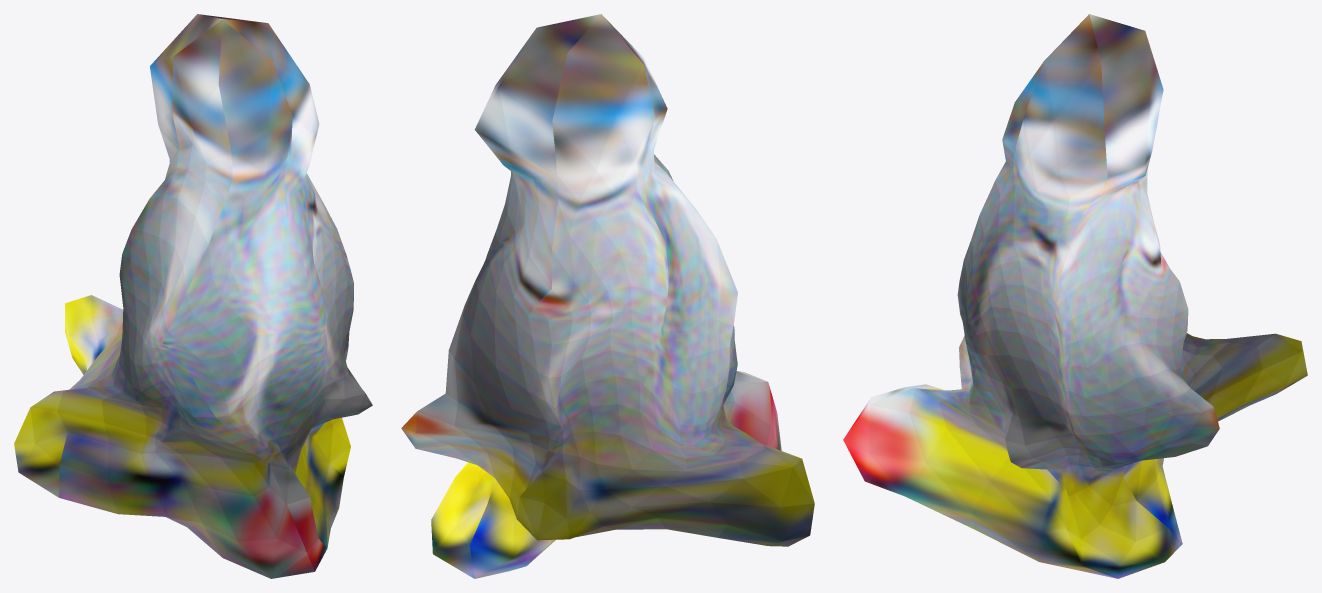
Rendered from a_penguin_with_a_skateboard.gltf.
3 renders of one model, left to right at view 1: azimuth 30°, elevation 25°; view 2: azimuth 150°, elevation 25°; view 3: azimuth 270°, elevation 25°, orthographic. The views are drawn at different scales.
Visible parts, largest first — view 1: pMesh1; view 2: pMesh1; view 3: pMesh1.
Boxes of the visible parts, bbox=[...] form: pMesh1: bbox=[14, 14, 372, 578]; pMesh1: bbox=[401, 14, 814, 578]; pMesh1: bbox=[843, 14, 1307, 578].
Size of the model in its own units: 2.49 by 3.51 by 2.93.
1 material, 1 textured.
